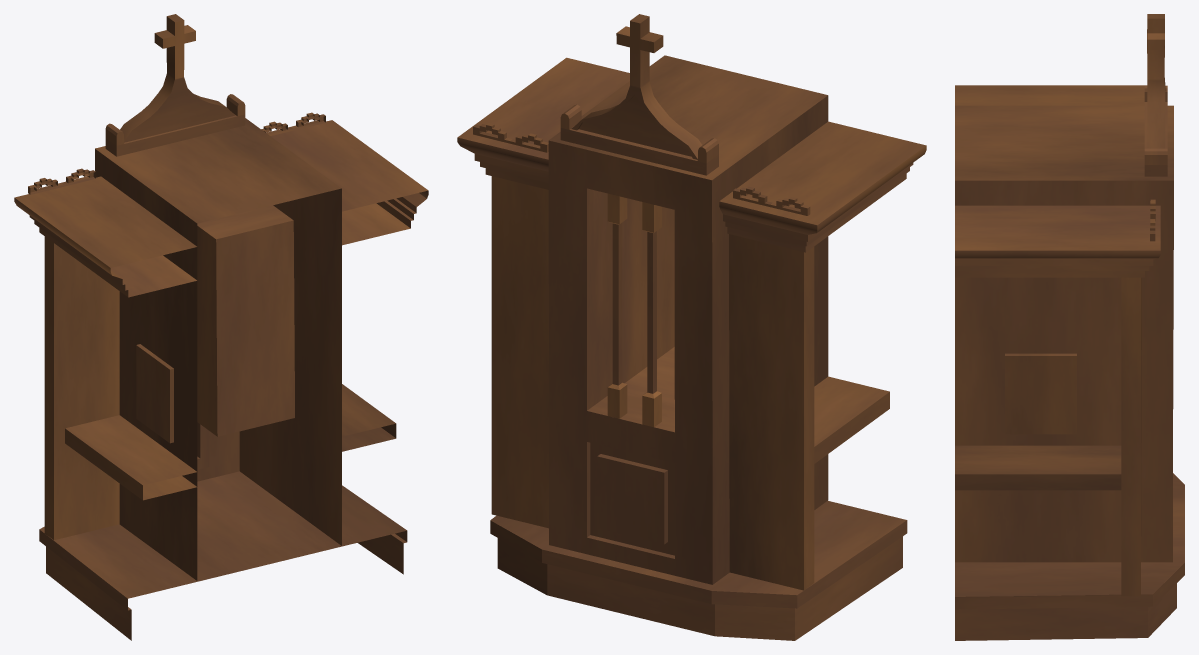
The model's file is Confesionario2.fbx.
3 views of the same model, side by side, from view 1: azimuth 30°, elevation 25°; view 2: azimuth 150°, elevation 25°; view 3: azimuth 270°, elevation 25° (orthographic). The views are drawn at different scales.
Parts seen in each view (by area): view 1: Cube.052, Cube.028, Cube.018; view 2: Cube.052, Cube.028, Cube.018, Cube.011; view 3: Cube.052, Cube.028, Cube.018.
Boxes of the visible parts, bbox=[...] form: Cube.052: bbox=[14, 118, 428, 580]; Cube.028: bbox=[39, 471, 407, 640]; Cube.018: bbox=[28, 14, 325, 194]; Cube.052: bbox=[457, 55, 926, 590]; Cube.028: bbox=[490, 501, 907, 640]; Cube.018: bbox=[473, 14, 810, 215]; Cube.011: bbox=[607, 193, 661, 427]; Cube.052: bbox=[955, 85, 1173, 596]; Cube.028: bbox=[955, 473, 1184, 640]; Cube.018: bbox=[1144, 14, 1167, 241].
Size of the model in its own units: 165 by 258 by 96.72.
